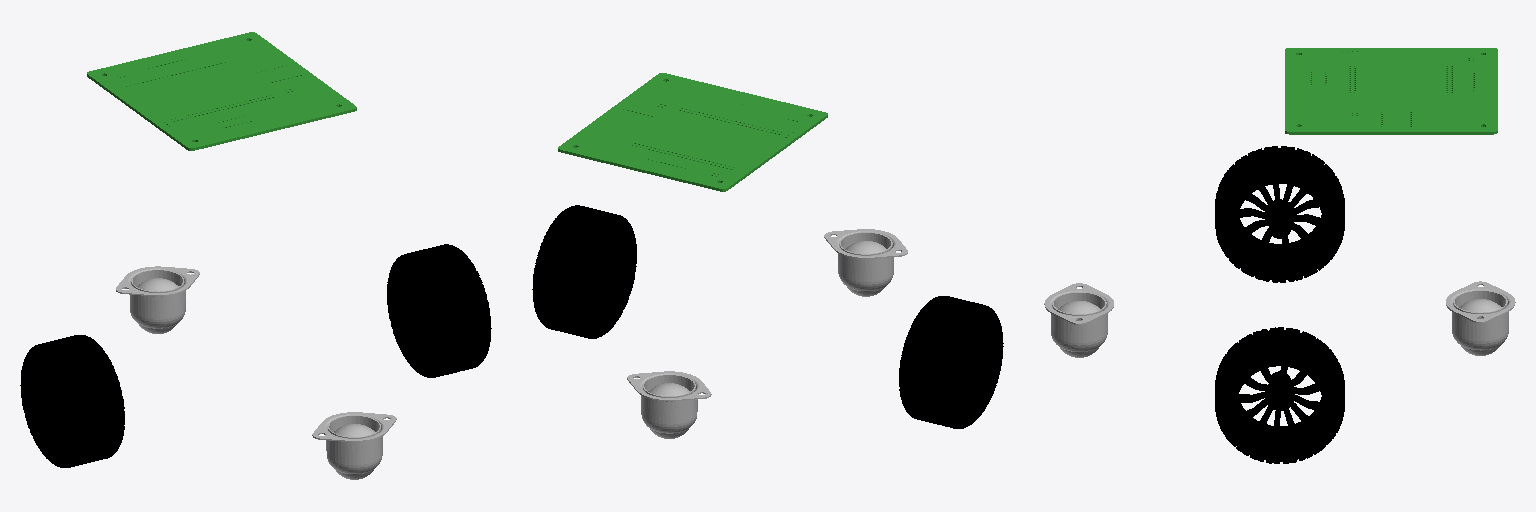
robot.urdf — robot_description:
<?xml version="1.0" encoding="utf-8"?>
<!-- This URDF was automatically created by SolidWorks to URDF Exporter! Originally created by [author] ([email redacted]) 
     Commit Version: 1.5.1-0-g916b5db  Build Version: 1.5.7152.31018
     For more information, please see http://wiki.ros.org/sw_urdf_exporter -->
<robot
  name="robot_description">
  
  <link name="base_footprint"/>

  <joint name="base_joint" type="fixed">
    <parent link="base_footprint"/>
    <child link="base_link"/>
    <origin xyz="0 0 0.010" rpy="0 0 0"/>
  </joint>
  
  <link
    name="base_link">
    <inertial>
      <origin
        xyz="0.002491 0.00026202 0.092962"
        rpy="0 0 0" />
      <mass
        value="1.6456" />
      <inertia
        ixx="0.0061088"
        ixy="0.00013642"
        ixz="-7.7939E-05"
        iyy="0.0056301"
        iyz="-2.3898E-05"
        izz="0.01161" />
    </inertial>
    <visual>
      <origin
        xyz="0 0 0"
        rpy="0 0 0" />
      <geometry>
        <mesh
          filename="package://robot_description/meshes/base_link.STL" />
      </geometry>
      <material
        name="">
        <color
          rgba="1.0 1.0 0.0 1.0" />
      </material>
    </visual>
    <collision>
      <origin
        xyz="0 0 0"
        rpy="0 0 0" />
      <geometry>
        <mesh
          filename="package://robot_description/meshes/base_link.STL" />
      </geometry>
    </collision>
  </link>
  <link
    name="left_wheel_link">
    <inertial>
      <origin
        xyz="-0.11296 1.4706E-05 -0.0205"
        rpy="0 0 0" />
      <mass
        value="0.035175" />
      <inertia
        ixx="2.5786E-05"
        ixy="1.1778E-14"
        ixz="7.9464E-14"
        iyy="1.5237E-05"
        iyz="-4.7627E-10"
        izz="1.5237E-05" />
    </inertial>
    <visual>
      <origin
        xyz="0 0 0"
        rpy="0 0 0" />
      <geometry>
        <mesh
          filename="package://robot_description/meshes/left_wheel_link.STL" />
      </geometry>
      <material
        name="">
        <color
          rgba="0.0 0.0 0.0 1.0" />
      </material>
    </visual>
    <collision>
      <origin
        xyz="0 0 0"
        rpy="0 0 0" />
      <geometry>
        <mesh
          filename="package://robot_description/meshes/left_wheel_link.STL" />
      </geometry>
    </collision>
  </link>
  <joint
    name="left_wheel_joint"
    type="continuous">
    <origin
      xyz="0 0 0"
      rpy="0 0 0" />
    <parent
      link="base_link" />
    <child
      link="left_wheel_link" />
    <axis
      xyz="1 0 0" />
  </joint>
  <link
    name="right_wheel_link">
    <inertial>
      <origin
        xyz="0.11271 -2.197E-10 -0.02"
        rpy="0 0 0" />
      <mass
        value="0.035175" />
      <inertia
        ixx="2.5786E-05"
        ixy="-1.4453E-14"
        ixz="7.9022E-14"
        iyy="1.5237E-05"
        iyz="4.8478E-10"
        izz="1.5237E-05" />
    </inertial>
    <visual>
      <origin
        xyz="0 0 0"
        rpy="0 0 0" />
      <geometry>
        <mesh
          filename="package://robot_description/meshes/right_wheel_link.STL" />
      </geometry>
      <material
        name="">
        <color
          rgba="0.0 0.0 0.0 1.0" />
      </material>
    </visual>
    <collision>
      <origin
        xyz="0 0 0"
        rpy="0 0 0" />
      <geometry>
        <mesh
          filename="package://robot_description/meshes/right_wheel_link.STL" />
      </geometry>
    </collision>
  </link>
  <joint
    name="right_wheel_joint"
    type="continuous">
    <origin
      xyz="0 0 0"
      rpy="0 0 0" />
    <parent
      link="base_link" />
    <child
      link="right_wheel_link" />
    <axis
      xyz="1 0 0" />
  </joint>
  <link
    name="front_caster_wheel_link">
    <inertial>
      <origin
        xyz="-8.8231E-16 -0.105 -0.034172"
        rpy="0 0 0" />
      <mass
        value="0.012004" />
      <inertia
        ixx="1.0149E-06"
        ixy="-5.0188E-23"
        ixz="2.1244E-23"
        iyy="1.0608E-06"
        iyz="1.6364E-23"
        izz="1.2088E-06" />
    </inertial>
    <visual>
      <origin
        xyz="0 0 0"
        rpy="0 0 0" />
      <geometry>
        <mesh
          filename="package://robot_description/meshes/front_caster_wheel_link.STL" />
      </geometry>
      <material
        name="">
        <color
          rgba="0.75294 0.75294 0.75294 1" />
      </material>
    </visual>
    <collision>
      <origin
        xyz="0 0 0"
        rpy="0 0 0" />
      <geometry>
        <mesh
          filename="package://robot_description/meshes/front_caster_wheel_link.STL" />
      </geometry>
    </collision>
  </link>
  <joint
    name="front_caster_wheel_joint"
    type="fixed">
    <origin
      xyz="0 0 0"
      rpy="0 0 0" />
    <parent
      link="base_link" />
    <child
      link="front_caster_wheel_link" />
    <axis
      xyz="0 0 0" />
  </joint>
  <link
    name="back_caster_wheel_link">
    <inertial>
      <origin
        xyz="1.2733E-17 0.105 -0.033172"
        rpy="0 0 0" />
      <mass
        value="0.012004" />
      <inertia
        ixx="1.0149E-06"
        ixy="-6.2744E-23"
        ixz="-8.1512E-23"
        iyy="1.0608E-06"
        iyz="2.3849E-23"
        izz="1.2088E-06" />
    </inertial>
    <visual>
      <origin
        xyz="0 0 0"
        rpy="0 0 0" />
      <geometry>
        <mesh
          filename="package://robot_description/meshes/back_caster_wheel_link.STL" />
      </geometry>
      <material
        name="">
        <color
          rgba="0.75294 0.75294 0.75294 1" />
      </material>
    </visual>
    <collision>
      <origin
        xyz="0 0 0"
        rpy="0 0 0" />
      <geometry>
        <mesh
          filename="package://robot_description/meshes/back_caster_wheel_link.STL" />
      </geometry>
    </collision>
  </link>
  <joint
    name="back_caster_wheel_joint"
    type="fixed">
    <origin
      xyz="0 0 0"
      rpy="0 0 0" />
    <parent
      link="base_link" />
    <child
      link="back_caster_wheel_link" />
    <axis
      xyz="0 0 0" />
  </joint>
  <link
    name="imu_link">
    <inertial>
      <origin
        xyz="0.012526 0.058222 0.1092"
        rpy="0 0 0" />
      <mass
        value="0.018371" />
      <inertia
        ixx="1.9093E-05"
        ixy="-6.7261E-09"
        ixz="1.0346E-21"
        iyy="1.6586E-05"
        iyz="1.2019E-21"
        izz="3.5671E-05" />
    </inertial>
    <visual>
      <origin
        xyz="0 0 0"
        rpy="0 0 0" />
      <geometry>
        <mesh
          filename="package://robot_description/meshes/imu_link.STL" />
      </geometry>
      <material
        name="">
        <color
          rgba="0.26667 0.66275 0.26667 1" />
      </material>
    </visual>
    <collision>
      <origin
        xyz="0 0 0"
        rpy="0 0 0" />
      <geometry>
        <mesh
          filename="package://robot_description/meshes/imu_link.STL" />
      </geometry>
    </collision>
  </link>
  <joint
    name="imu_joint"
    type="fixed">
    <origin
      xyz="0 0 0"
      rpy="0 0 0" />
    <parent
      link="base_link" />
    <child
      link="imu_link" />
    <axis
      xyz="0 0 0" />
  </joint>
  <link
    name="lidar_link">
    <inertial>
      <origin
        xyz="-0.00053209 -0.0050602 0.22474"
        rpy="0 0 0" />
      <mass
        value="0.073085" />
      <inertia
        ixx="2.4125E-05"
        ixy="1.0393E-07"
        ixz="9.4272E-09"
        iyy="1.9581E-05"
        iyz="4.2839E-07"
        izz="4.1418E-05" />
    </inertial>
    <visual>
      <origin
        xyz="0 0 0"
        rpy="0 0 0" />
      <geometry>
        <mesh
          filename="package://robot_description/meshes/lidar_link.STL" />
      </geometry>
      <material
        name="">
        <color
          rgba="0.0 0.0 0.0 1.0" />
      </material>
    </visual>
    <collision>
      <origin
        xyz="0 0 0"
        rpy="0 0 0" />
      <geometry>
        <mesh
          filename="package://robot_description/meshes/lidar_link.STL" />
      </geometry>
    </collision>
  </link>
  <joint
    name="lidar_joint"
    type="fixed">
    <origin
      xyz="0 0 0"
      rpy="0 0 0" />
    <parent
      link="base_link" />
    <child
      link="lidar_link" />
    <axis
      xyz="0 0 0" />
  </joint>
</robot>

--- Render facts (derived) ---
3 views of the same robot in one strip: view 1: azimuth 30°, elevation 25°; view 2: azimuth 150°, elevation 25°; view 3: azimuth 270°, elevation 25° (orthographic).
Robot: robot_description — 8 links, 7 joints (2 continuous, 5 fixed); root link base_footprint; default pose: every joint at zero.
Visible links, largest first — view 1: imu_link, right_wheel_link, left_wheel_link, front_caster_wheel_link, back_caster_wheel_link; view 2: imu_link, right_wheel_link, left_wheel_link, back_caster_wheel_link, front_caster_wheel_link; view 3: imu_link, right_wheel_link, left_wheel_link, front_caster_wheel_link, back_caster_wheel_link.
Boxes of the visible links, x1,y1,x2,y2 form: imu_link: [87, 32, 356, 150]; right_wheel_link: [387, 244, 491, 377]; left_wheel_link: [20, 335, 124, 467]; front_caster_wheel_link: [312, 412, 396, 479]; back_caster_wheel_link: [116, 266, 199, 333]; imu_link: [558, 73, 827, 191]; right_wheel_link: [532, 205, 636, 338]; left_wheel_link: [899, 296, 1003, 428]; back_caster_wheel_link: [627, 371, 711, 438]; front_caster_wheel_link: [824, 229, 907, 296]; imu_link: [1285, 48, 1497, 134]; right_wheel_link: [1215, 327, 1344, 463]; left_wheel_link: [1215, 146, 1344, 282]; front_caster_wheel_link: [1044, 283, 1113, 357]; back_caster_wheel_link: [1446, 281, 1515, 355].
Size in the robot's own frame: 0.2527 by 0.2466 by 0.1645 metres.
5 mesh visuals loaded from 7 distinct referenced files (5 binary STL); not drawn: 2 (reference not matched to a file when rendering).